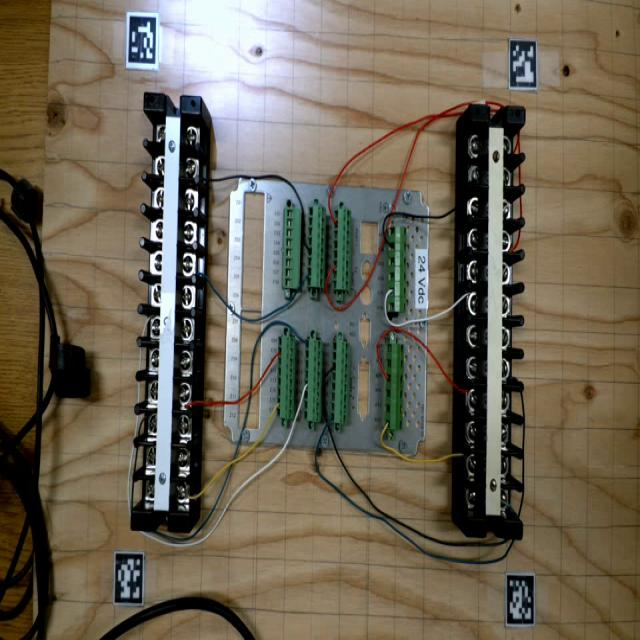Flathead_Block: (467, 105, 525, 540)
Phillips_Block: (131, 92, 202, 533)
Terminal_1: (387, 227, 407, 313), (385, 343, 404, 430)
Terminal_2: (330, 341, 350, 425), (277, 336, 296, 419), (332, 208, 351, 291), (307, 205, 326, 288), (304, 339, 322, 422)
